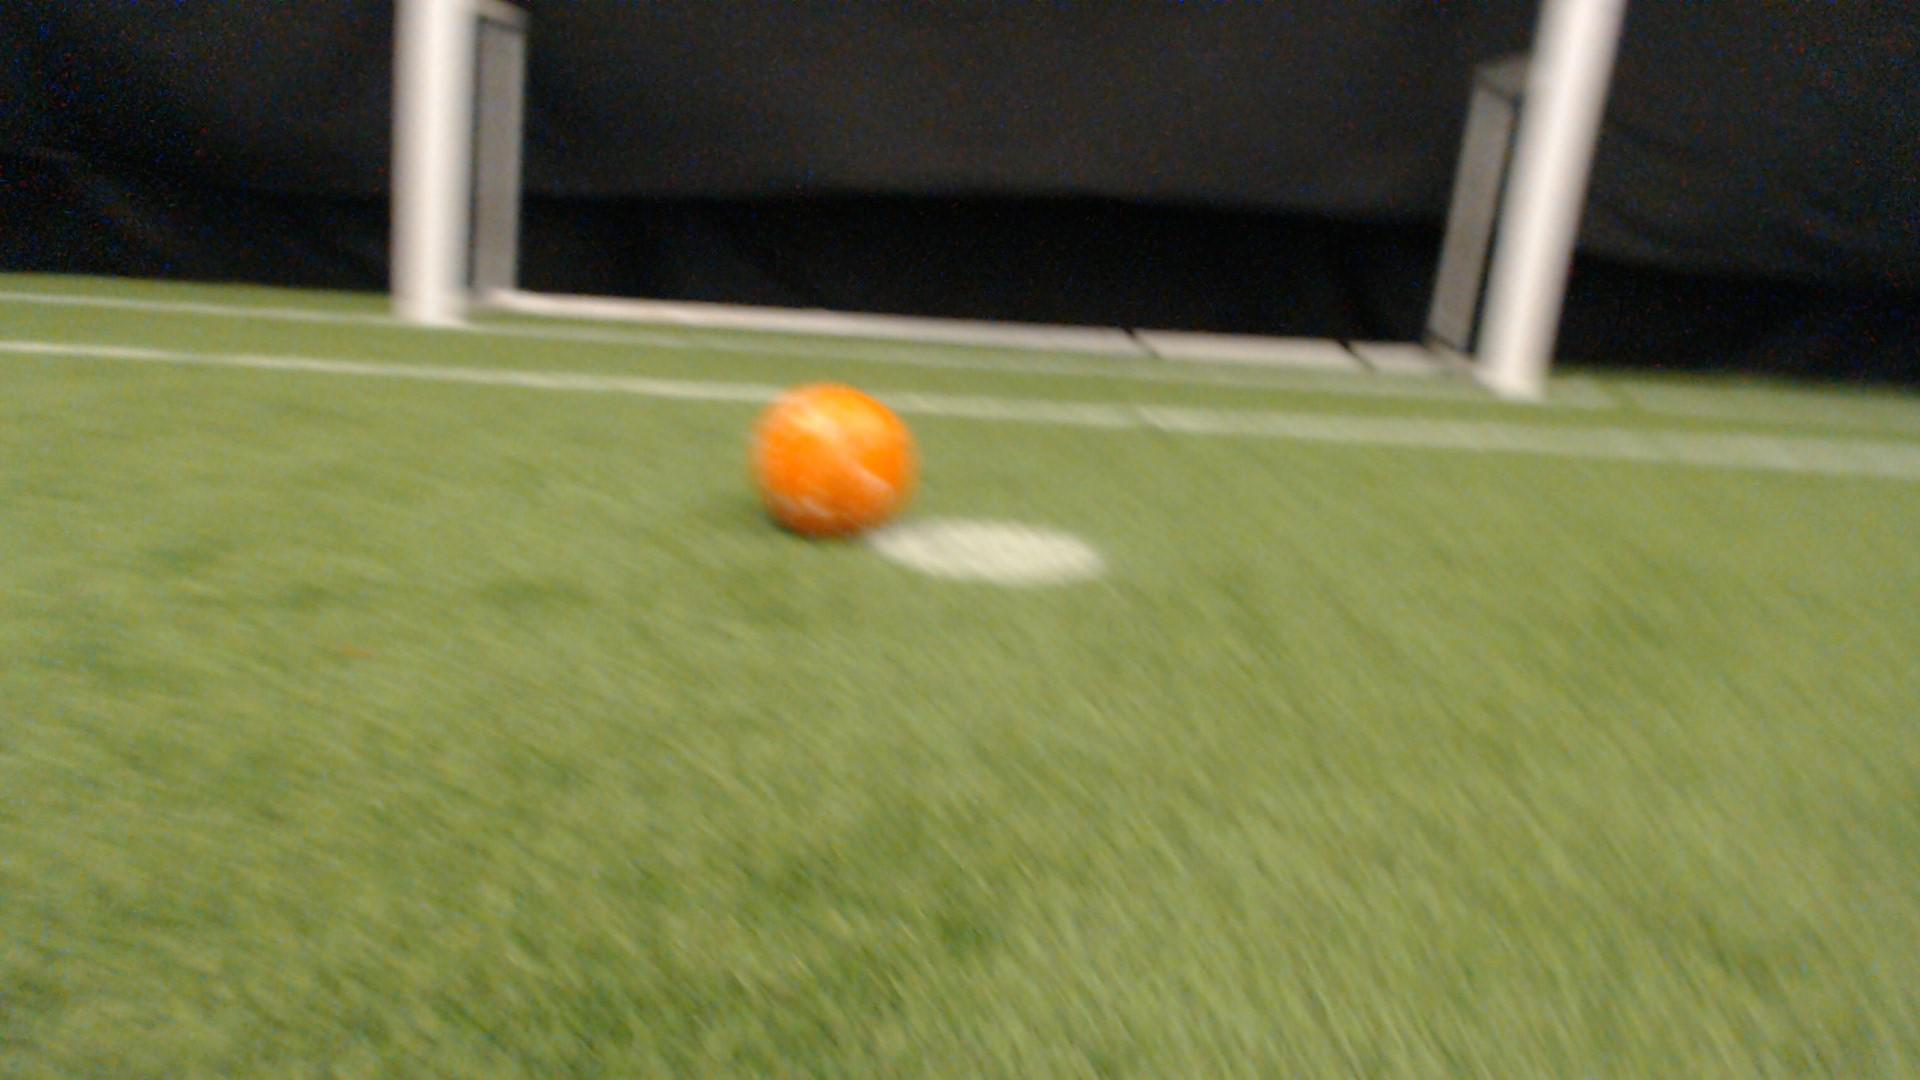bola: (745, 378, 931, 549)
